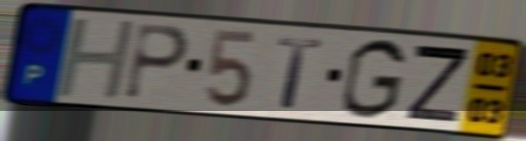5: (201, 26, 260, 109)
G: (338, 36, 409, 122)
H: (52, 17, 140, 102)
P: (120, 21, 193, 104)
T: (275, 34, 327, 111)
Z: (404, 41, 473, 125)
